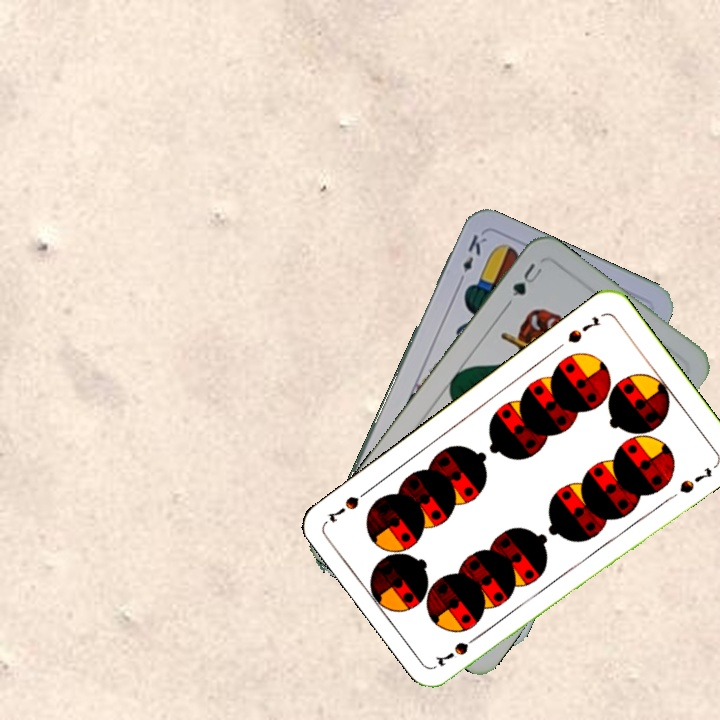EK: (454, 230, 490, 287)
GU: (508, 259, 545, 299)
S7: (433, 629, 485, 670), (563, 312, 603, 346)
